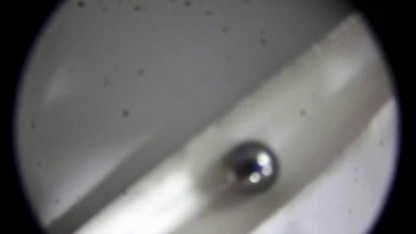gangzhu: (217, 133, 287, 189)
